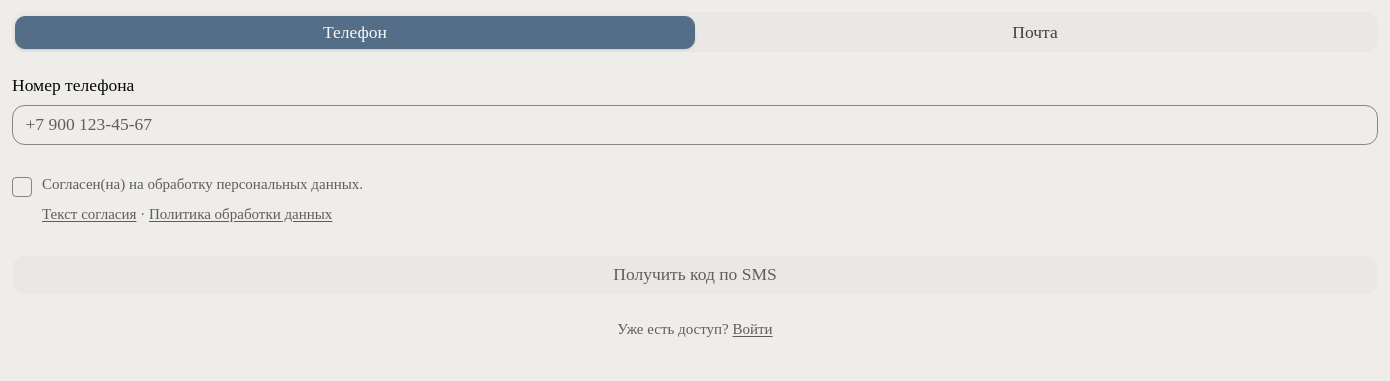
Scenario: согласие: подпись только у галочки › дословный текст раскрывается без изменений, состояние видно читалке
expect the text "Я, субъект ПДн, даю согласие оператору…" is not shown: met
What coordinates should you click on to do the following:
click the button "Текст согласия"
I would click on:
 (89, 214)
Its box is [42,200,136,230].
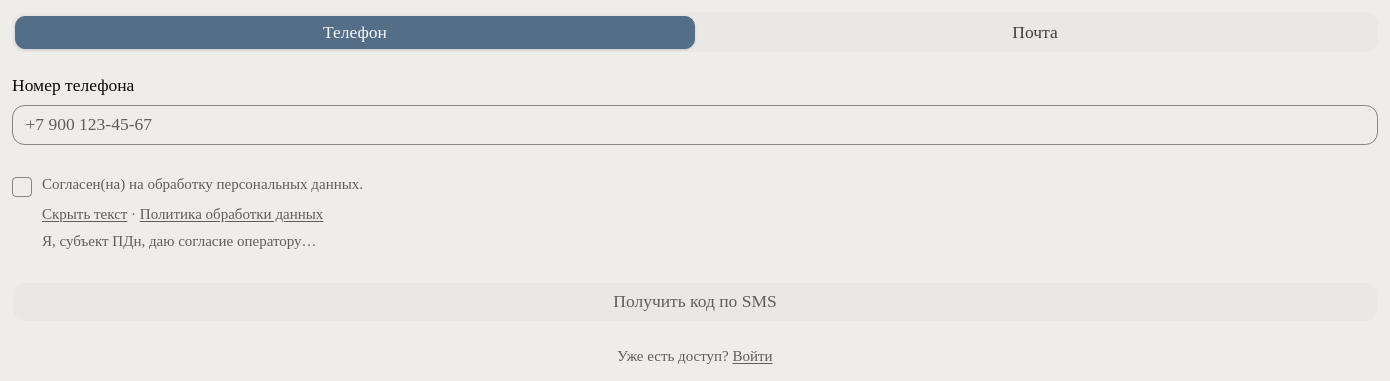
expect the button "Скрыть текст" is expanded: met, box [42,200,127,230]
expect the text "Я, субъект ПДн, даю согласие оператору…" is shown: met, box [42,233,317,249]
